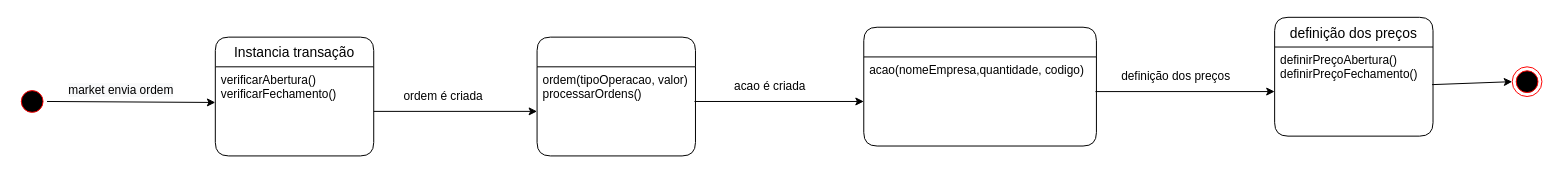
Some shapes in this 1559 by 173 pixel diagram are drawn without their labels. Here are the shapes that lost their labels. From the top down, the box of each, then its label:
(536, 36, 695, 156): Instancia ordem
(863, 26, 1096, 146): Instancia acao
